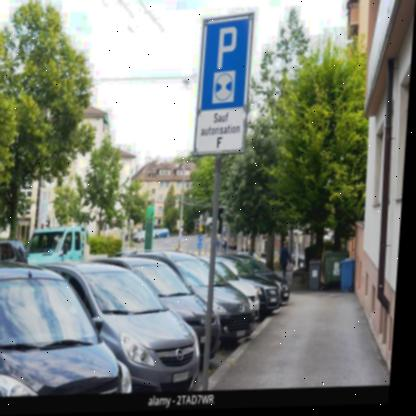Parking: (201, 19, 253, 71)
